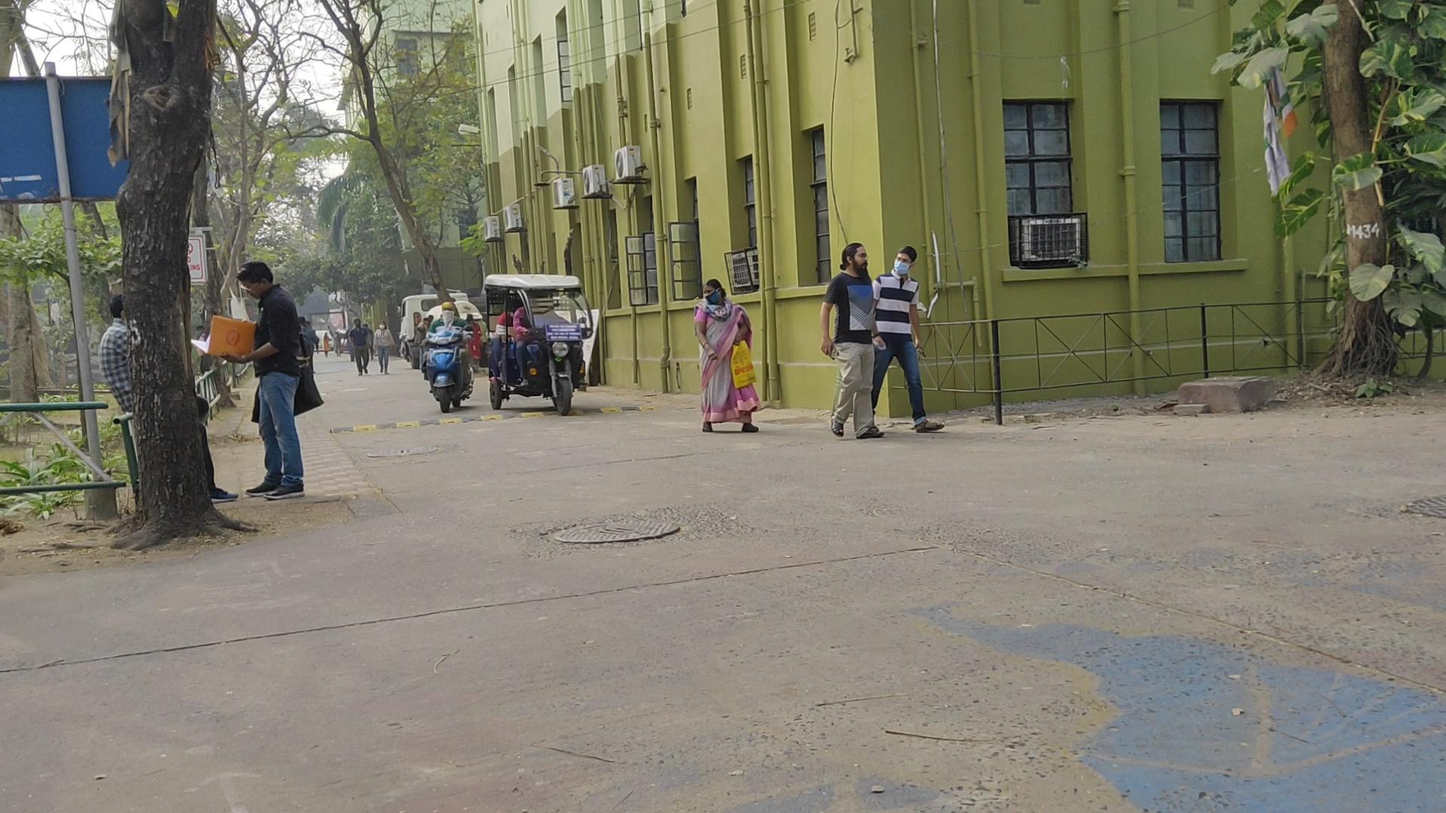Auto: (480, 271, 593, 416)
bike: (417, 299, 476, 412)
